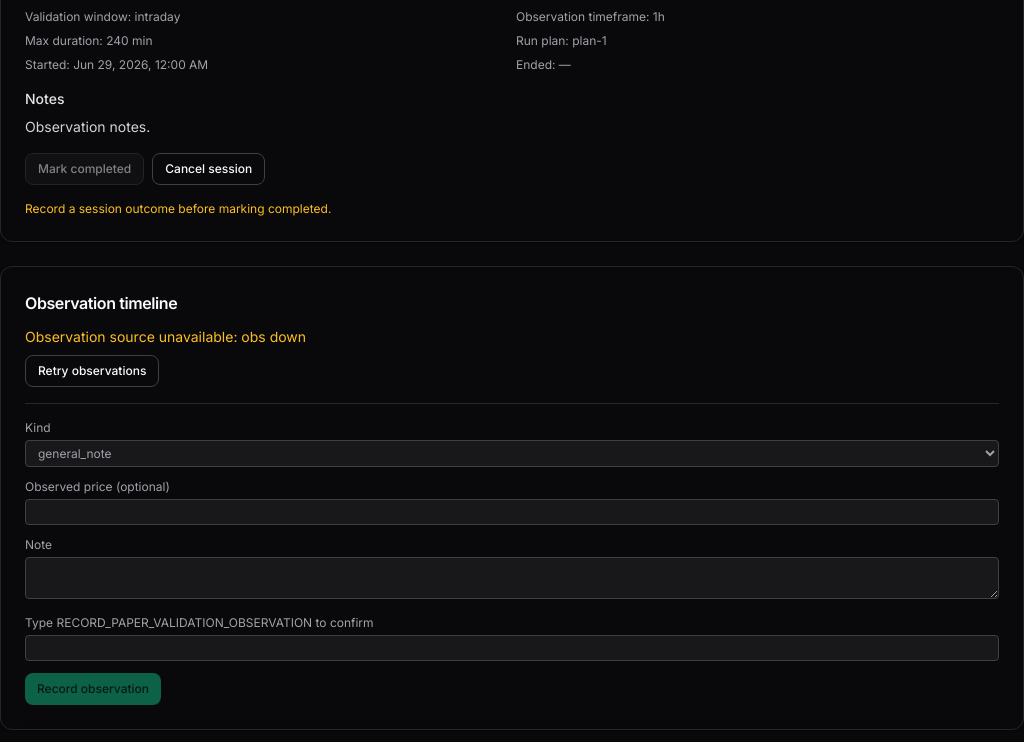
it: PaperValidationRunSessionDetailPage Slice 82/83 / Phase C2 honesty › shows retrying observation state without unavailable while pending
The width and height of the screenshot is (1024, 742).
(page scrolled)
Expected: the text "Observation source unavailable: obs down" is shown, left=25, top=328, right=306, bottom=345
Click the button with test id "paper-run-session-obs-retry". click: (92, 371)
box: left=25, top=355, right=159, bottom=387
(page scrolled)
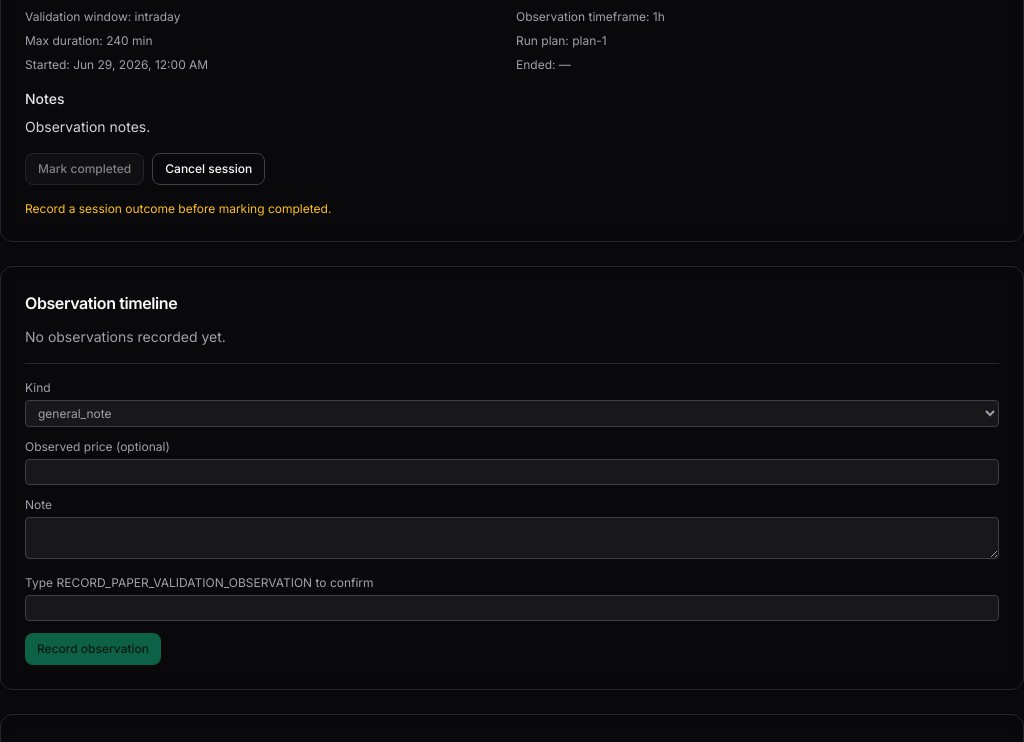
Expected: the text "No observations recorded yet." is shown, left=25, top=328, right=226, bottom=345
Expected: the text with test id "paper-run-session-obs-unavailable" is gone
